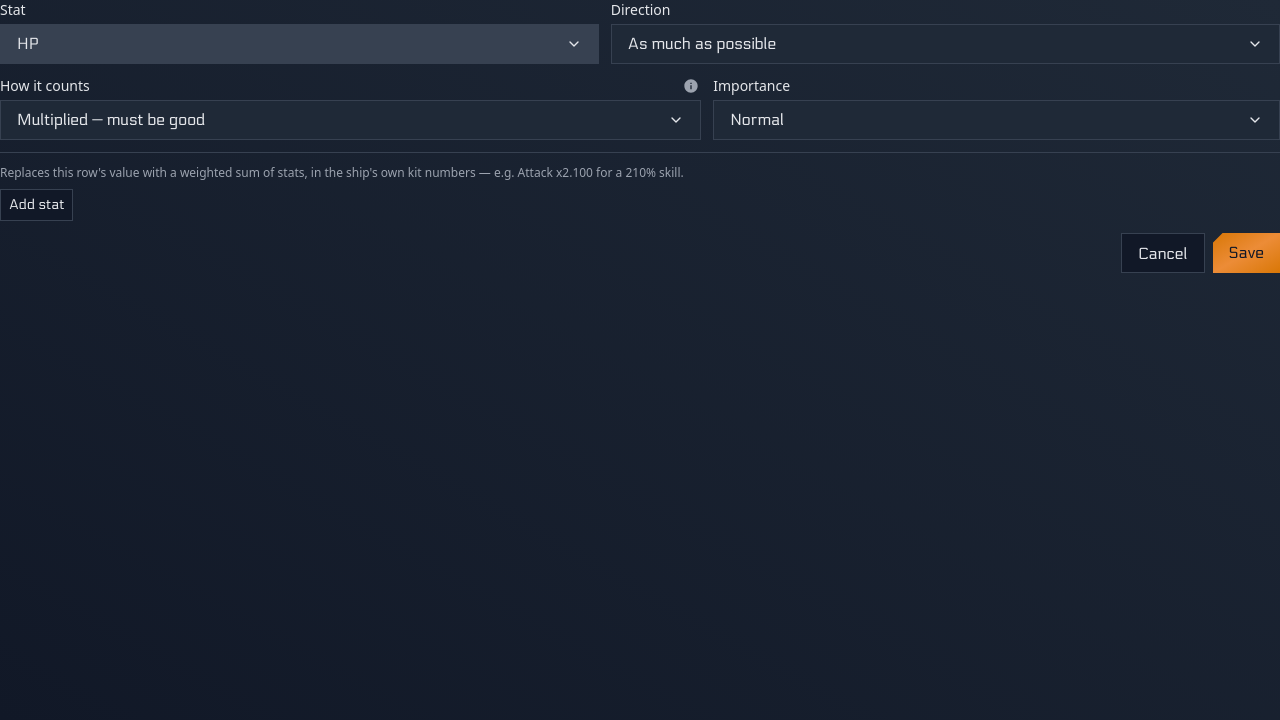
Scenario: CustomFormulaForm — basis controls follow usableBasis › offers only stats usableBasis can honour in the basis-stat picker
This screenshot has width=1280, height=720.
Click the button "Add stat". click: (37, 205)
box: [0,189,74,221]
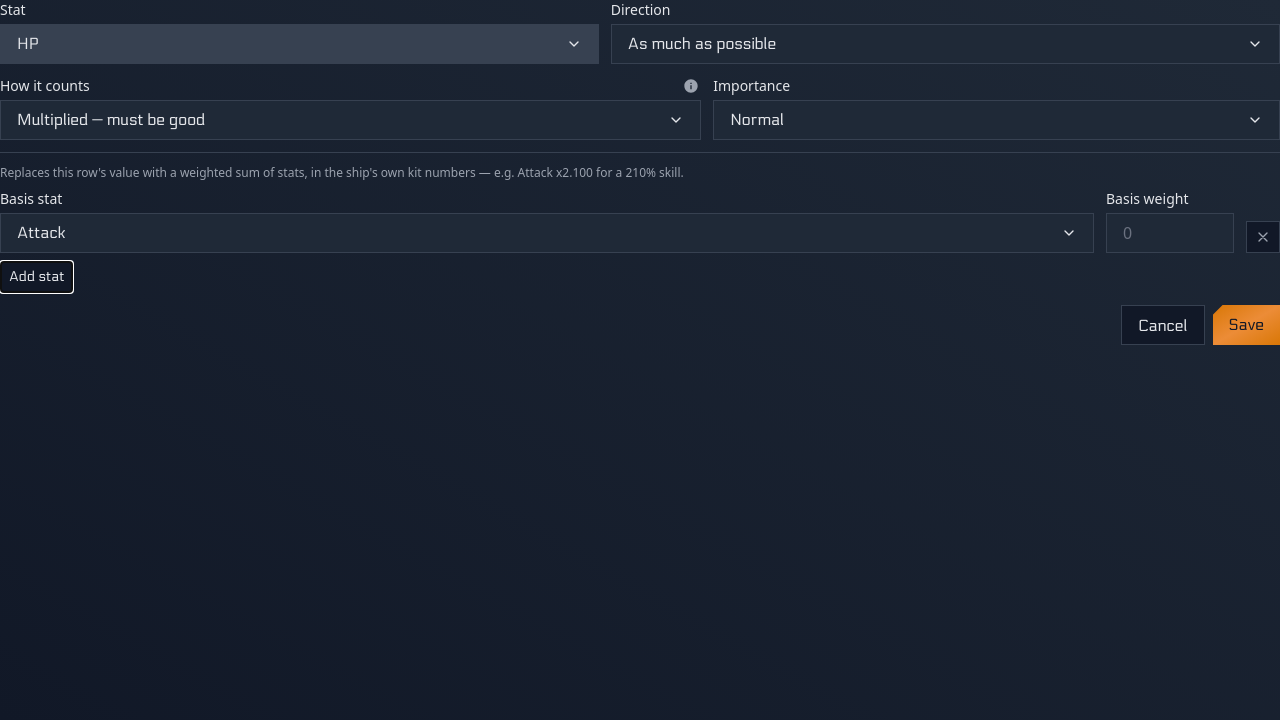
Click the label labelled "Basis stat". click: (31, 198)
box: [0,189,62,208]
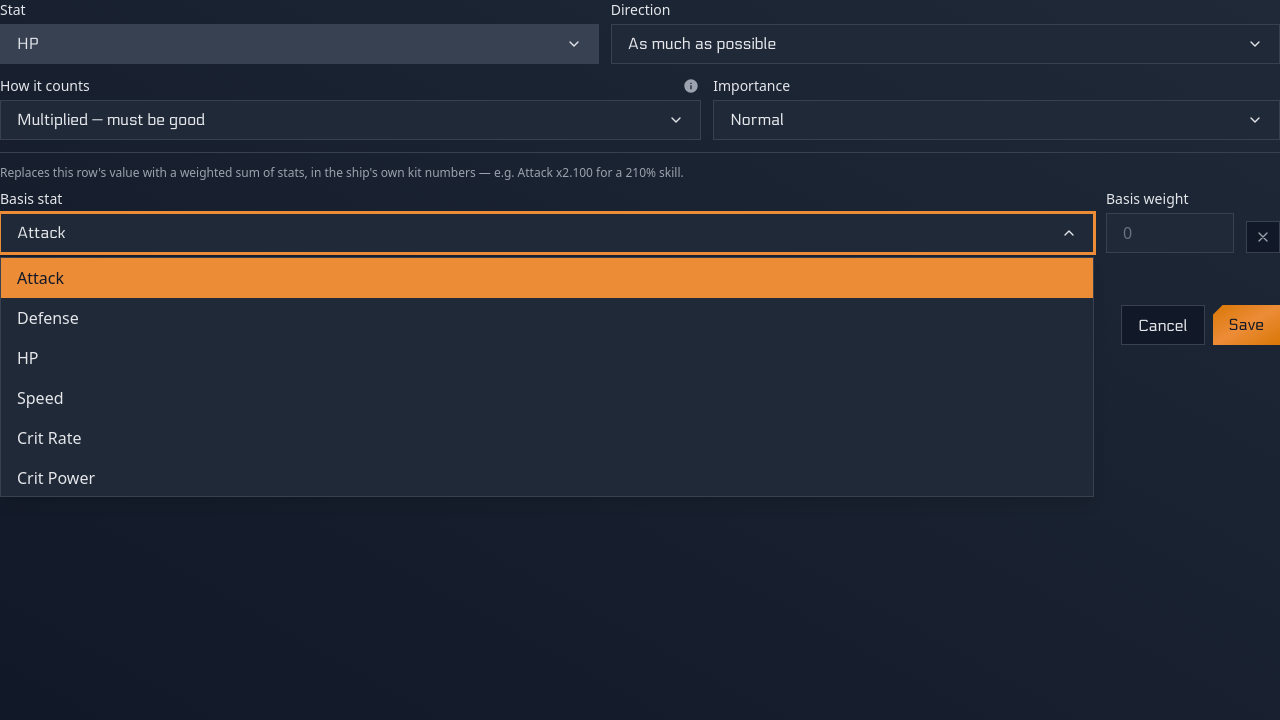
Expected: the option "HP" is shown, [17,347,38,369]
